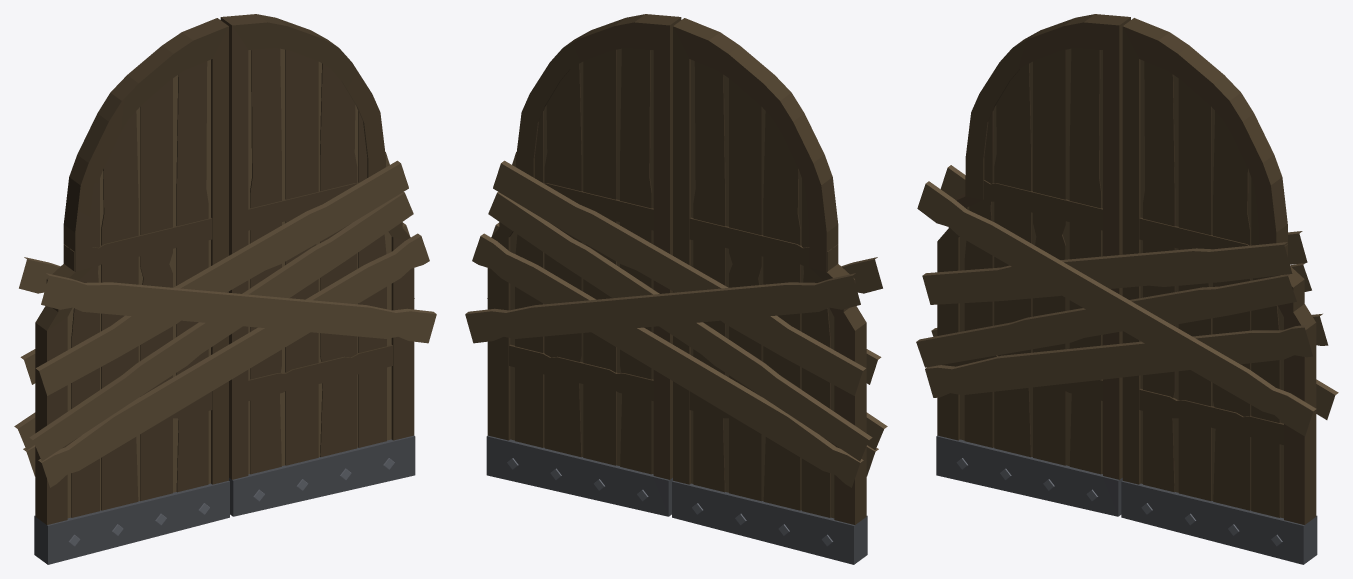
File: Doors_RoundArch_Covered.glb
3 views of the same model, side by side, from view 1: azimuth 30°, elevation 25°; view 2: azimuth 150°, elevation 25°; view 3: azimuth 330°, elevation 25° (orthographic).
Visible parts, largest first — view 1: DarkWood, Wood, Metal, Metal_Light; view 2: DarkWood, Wood, Metal, Metal_Light; view 3: DarkWood, Wood, Metal, Metal_Light.
Boxes of the visible parts, left/top/right/bottom form: DarkWood: left=35, top=14, right=414, bottom=524; Wood: left=14, top=48, right=436, bottom=518; Metal: left=34, top=435, right=415, bottom=564; Metal_Light: left=69, top=458, right=394, bottom=546; DarkWood: left=487, top=14, right=866, bottom=524; Wood: left=465, top=48, right=887, bottom=518; Metal: left=486, top=435, right=867, bottom=564; Metal_Light: left=507, top=458, right=832, bottom=546; DarkWood: left=937, top=14, right=1316, bottom=524; Wood: left=916, top=48, right=1338, bottom=518; Metal: left=936, top=435, right=1317, bottom=564; Metal_Light: left=956, top=458, right=1282, bottom=546.
Bounding box in the file's own units: 2.52 × 2.97 × 0.2789.
